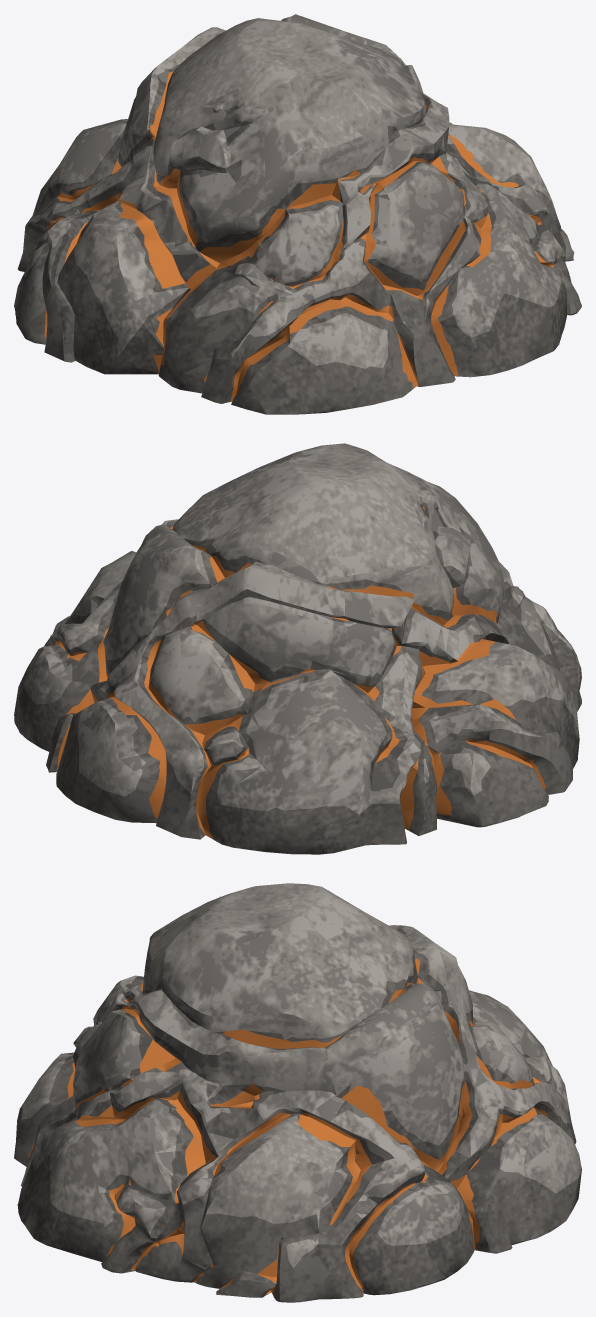
Rendered from ore_outcrop.glb.
3 renders of one model, top to bottom at view 1: azimuth 30°, elevation 25°; view 2: azimuth 150°, elevation 25°; view 3: azimuth 270°, elevation 25°, orthographic. The views are drawn at different scales.
Parts seen in each view (by area): view 1: OreOutcrop; view 2: OreOutcrop; view 3: OreOutcrop.
Part boxes in pixels (x1,y1,x2,y2): OreOutcrop: (14, 14, 581, 414); OreOutcrop: (14, 443, 581, 854); OreOutcrop: (14, 883, 581, 1302).
Bounding box in the file's own units: 1.68 × 0.8312 × 1.58.
3 materials, 2 textured.
